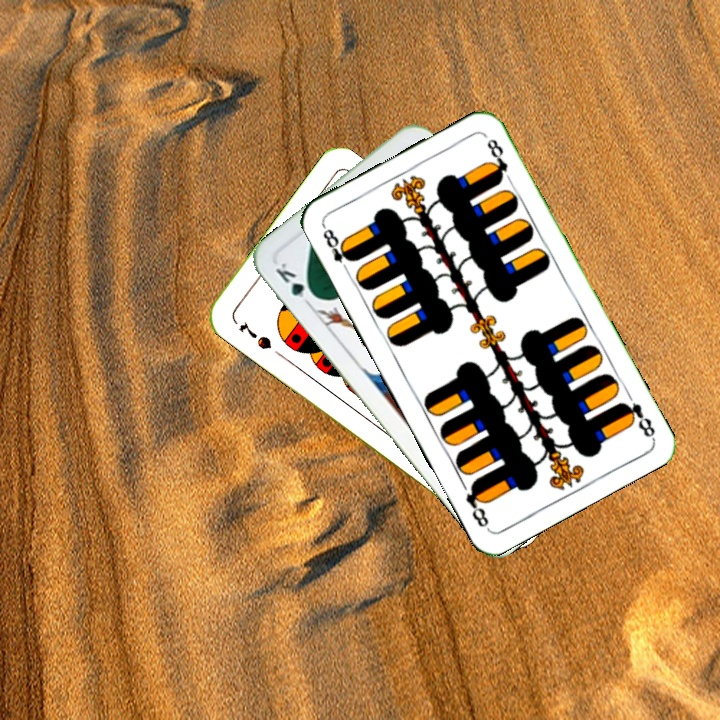E8: (318, 222, 357, 277), (616, 398, 658, 441)
GK: (271, 258, 320, 309)
S7: (235, 318, 274, 352)
